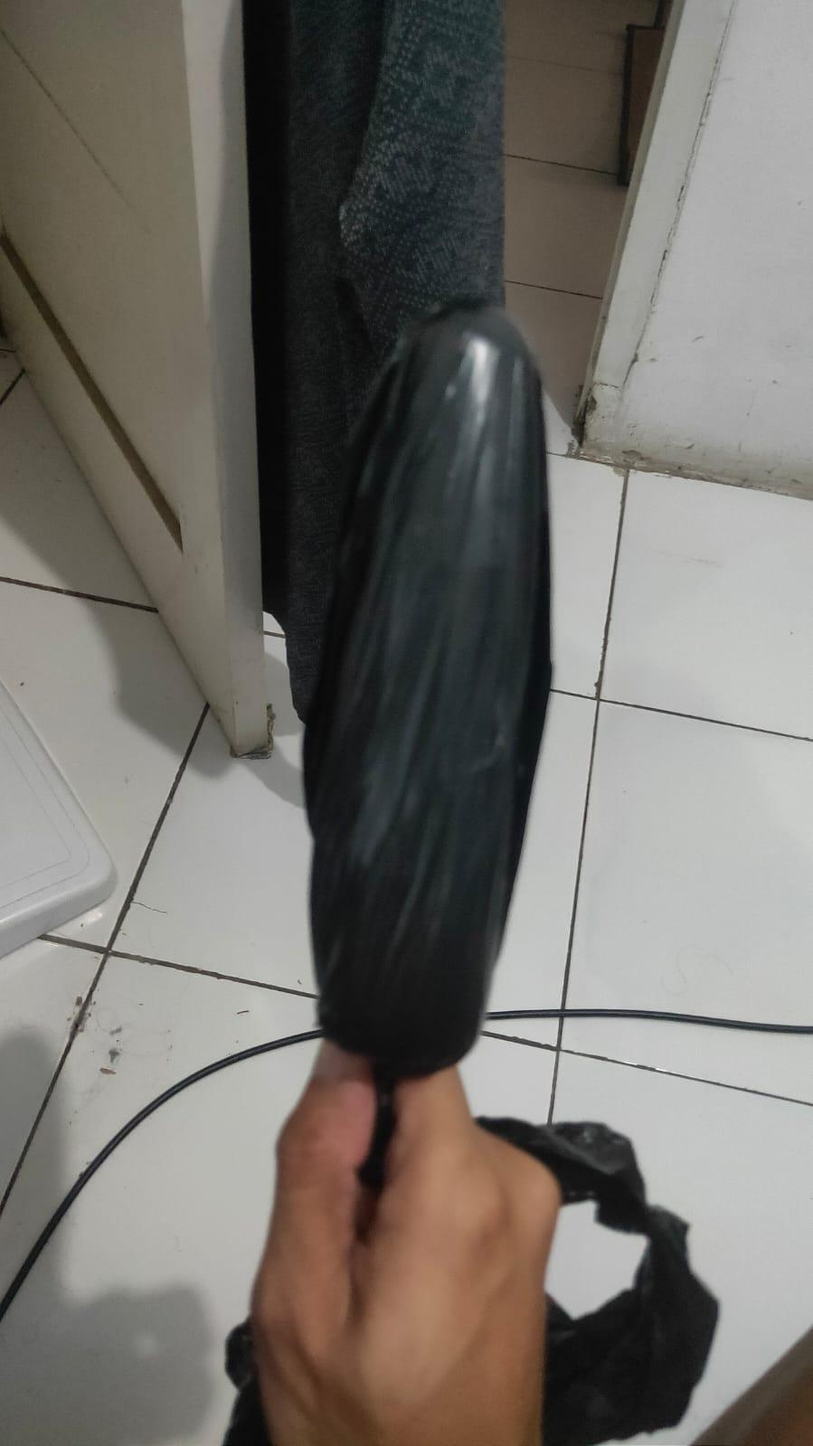undamaged: (294, 286, 569, 1092)
